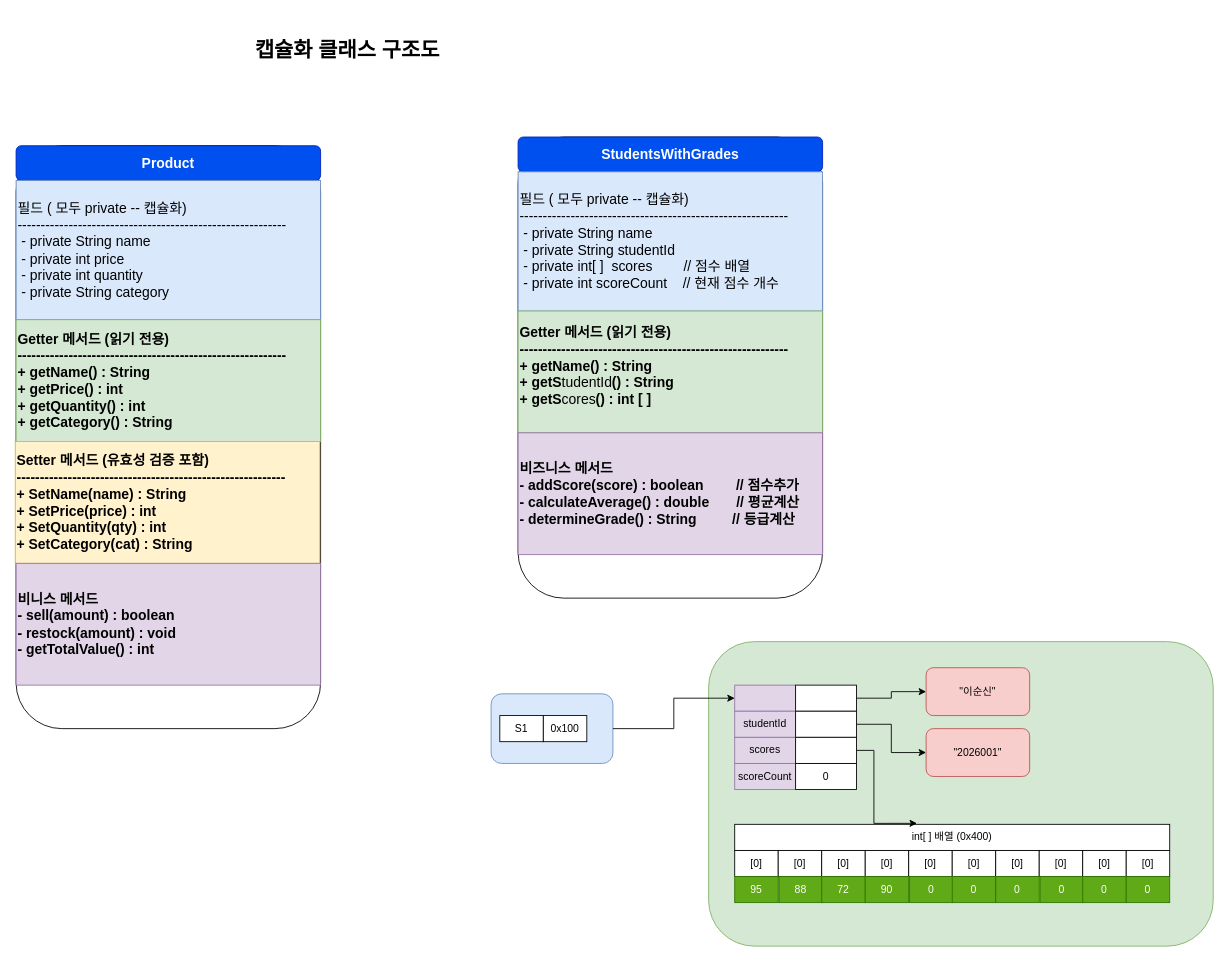
Some shapes in this 1228 by 961 pixel diagram are drawn without their labels. Each missing label, with the centre of its shape:
"0x200" belongs at (x=826, y=697).
"0x300" belongs at (x=826, y=723).
"0x400" belongs at (x=826, y=749).
"name" belongs at (x=765, y=697).
